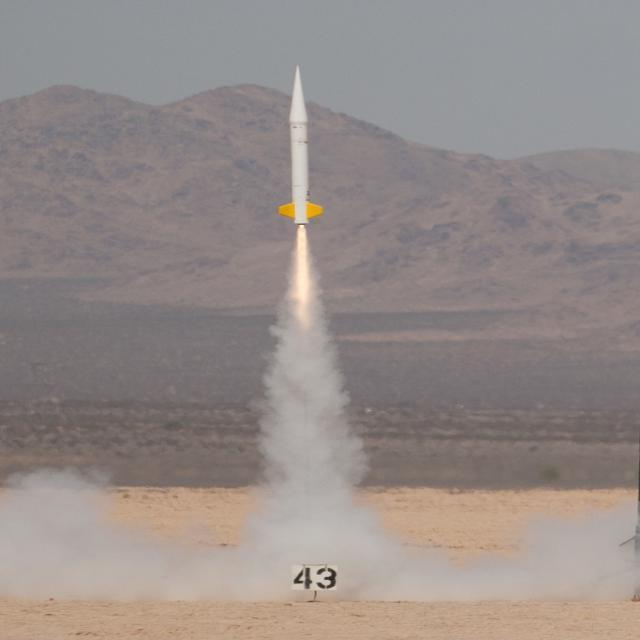missile: (276, 62, 328, 258)
